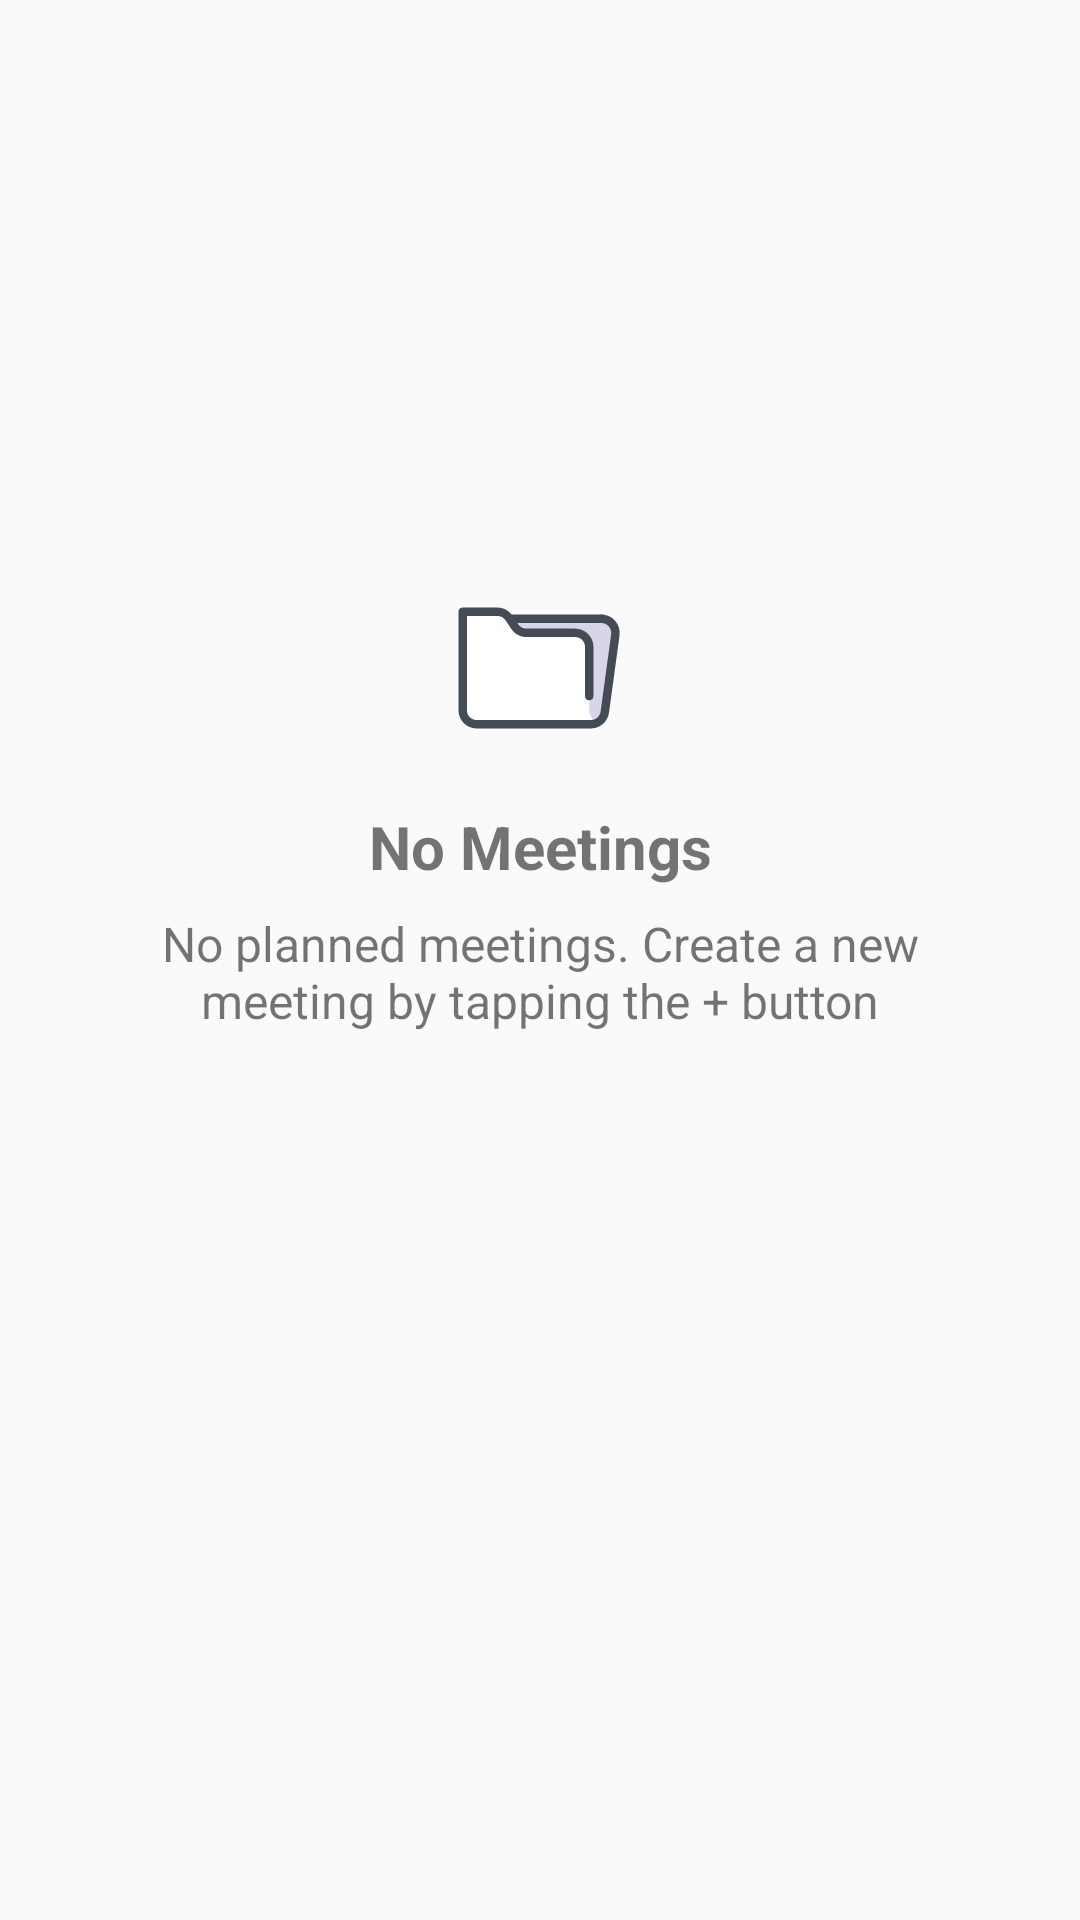

Icons on this 1080 × 1920 Android screen, each with the point to tap as (x,y):
folder: (539,668)
